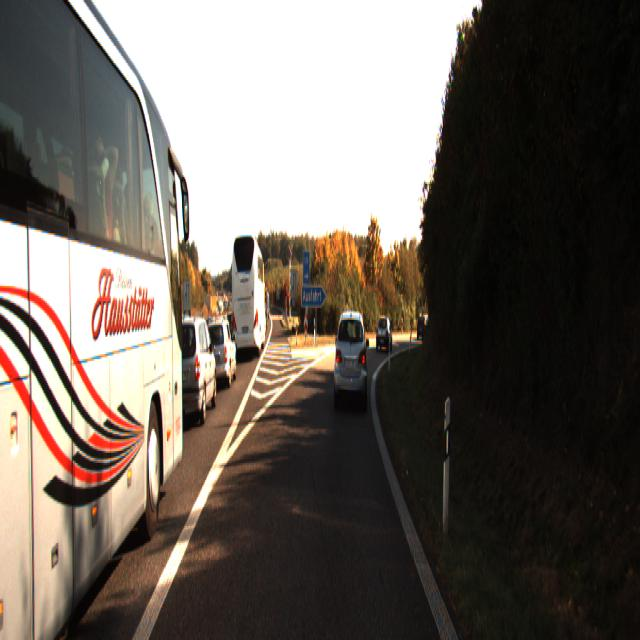Car: (0, 0, 187, 639), (164, 315, 217, 429), (230, 228, 265, 361), (334, 306, 368, 408), (203, 317, 237, 388), (374, 316, 392, 353), (416, 312, 432, 340)
